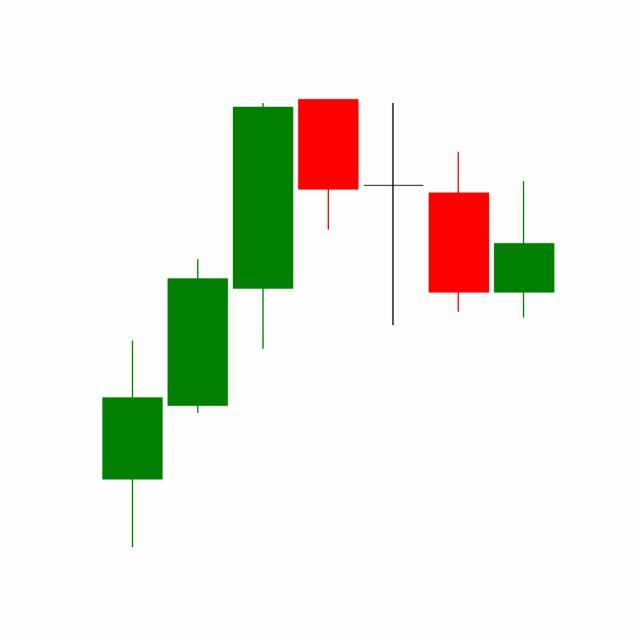Hikkake Pattern: (229, 99, 555, 353)
